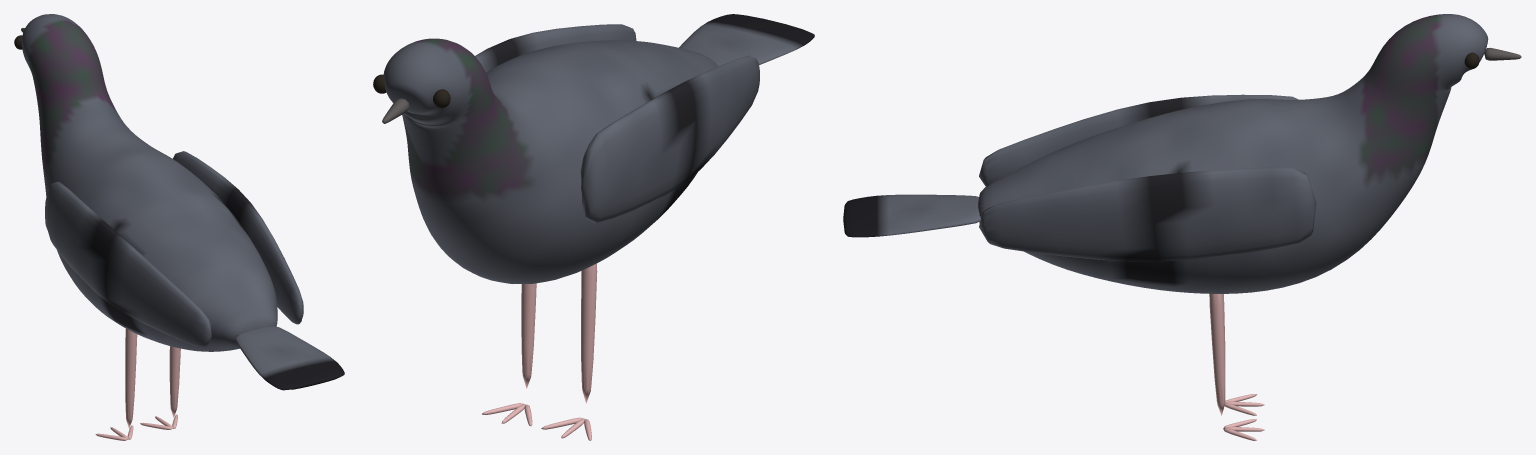
The model's file is pigeon_standing.gltf.
3 renders of one model, left to right at view 1: azimuth 30°, elevation 25°; view 2: azimuth 150°, elevation 25°; view 3: azimuth 270°, elevation 25°, orthographic. The views are drawn at different scales.
Parts seen in each view (by area): view 1: pigeon; view 2: pigeon; view 3: pigeon.
Boxes of the visible parts, x1=… form: pigeon: x1=14, y1=14, x2=344, y2=440; pigeon: x1=373, y1=14, x2=814, y2=440; pigeon: x1=843, y1=14, x2=1521, y2=440.
Bounding box in the file's own units: 0.1364 × 0.2978 × 0.4563.
